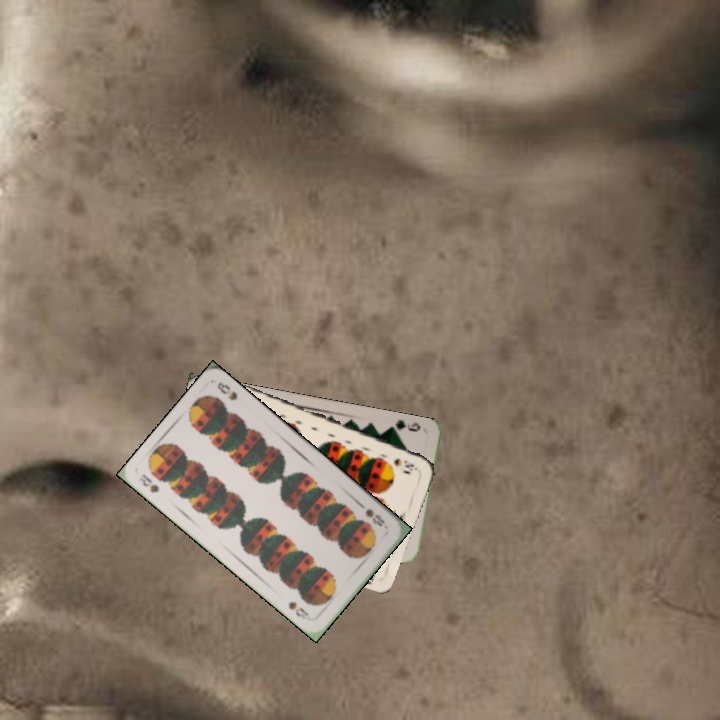G9: (386, 415, 423, 435)
S10: (390, 454, 420, 473)
S8: (134, 470, 162, 495), (361, 505, 388, 529)
